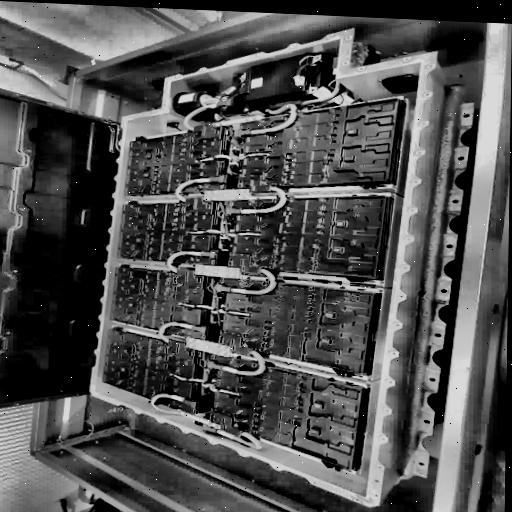high_volt_cable: (248, 100, 303, 136), (210, 347, 268, 377), (222, 266, 284, 294), (237, 182, 287, 216), (174, 169, 219, 203), (214, 425, 266, 449), (157, 319, 205, 344), (181, 100, 221, 130), (165, 248, 211, 272), (150, 393, 189, 417)
low_volt_cable: (165, 371, 246, 396), (194, 145, 269, 168), (177, 301, 254, 317), (187, 226, 263, 239)
